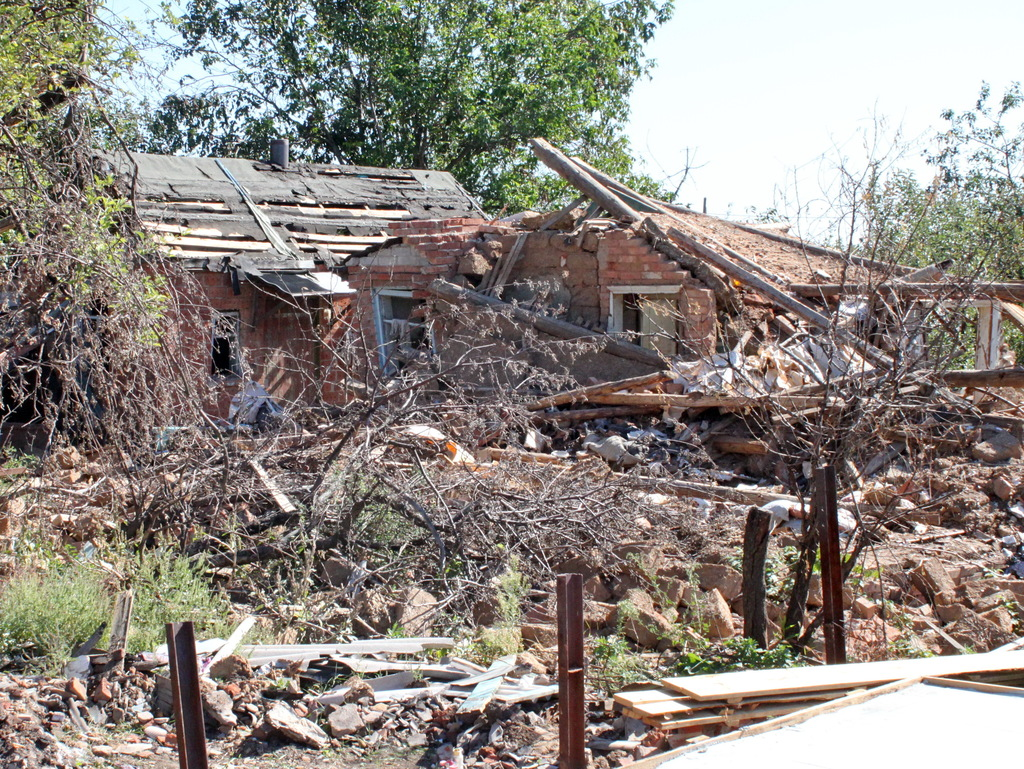Tree: (0, 0, 1024, 650)
